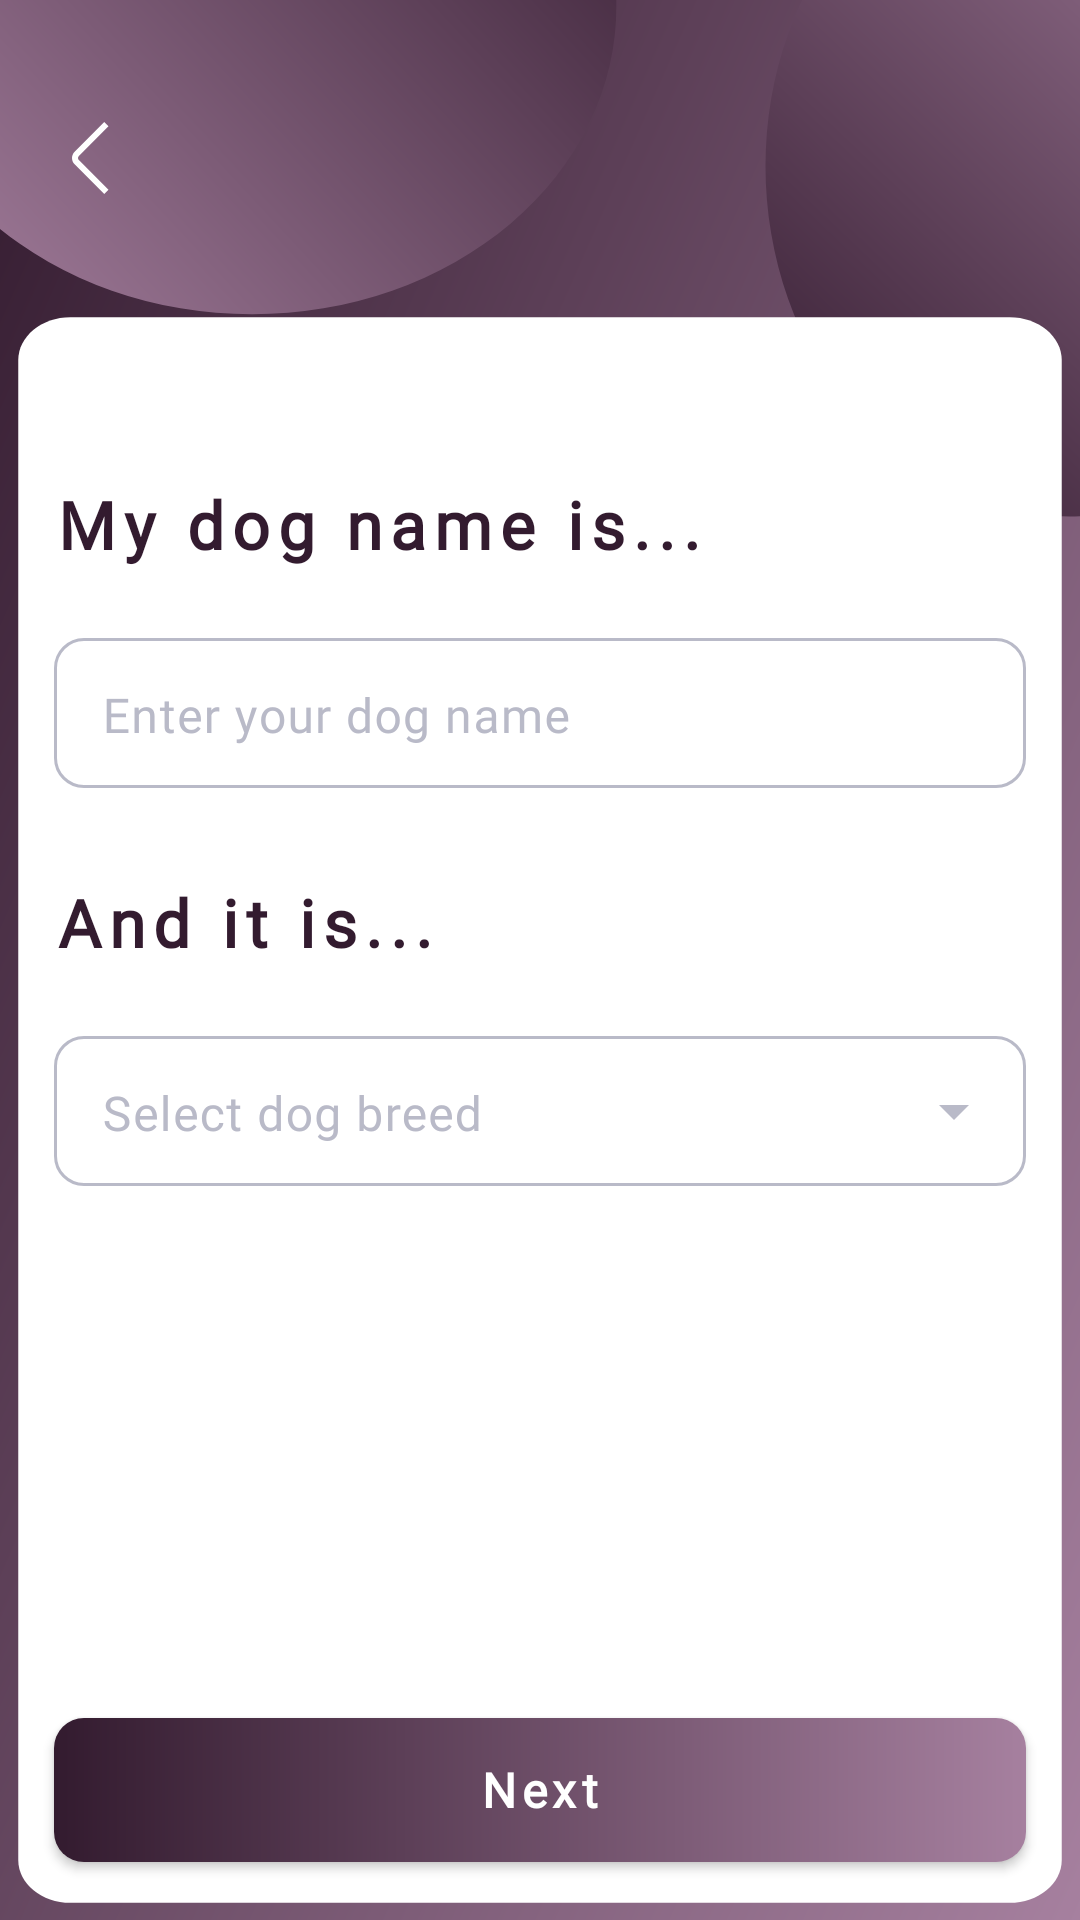

Icon bounding boxes for this 1080 × 1920 phone screenshot, format (x1, y1, x2, y2):
back arrow: (72, 122, 109, 194)
